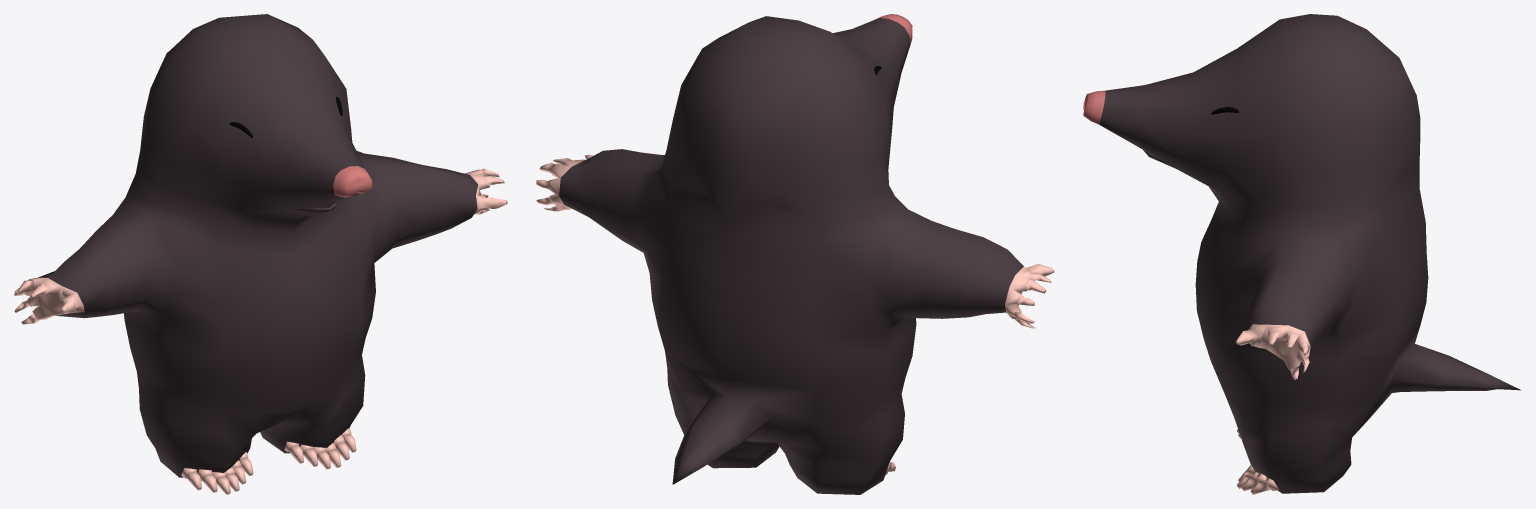
The model's file is MOLE.fbx.
The picture shows the model from 3 angles, left to right: view 1: azimuth 30°, elevation 25°; view 2: azimuth 150°, elevation 25°; view 3: azimuth 270°, elevation 25°; orthographic projection. The views are drawn at different scales.
Visible parts, largest first — view 1: Mole; view 2: Mole; view 3: Mole.
Boxes of the visible parts, bbox=[...] form: Mole: bbox=[14, 14, 507, 494]; Mole: bbox=[536, 14, 1054, 494]; Mole: bbox=[1083, 14, 1520, 494].
Size of the model in its own units: 522 by 447 by 408.
